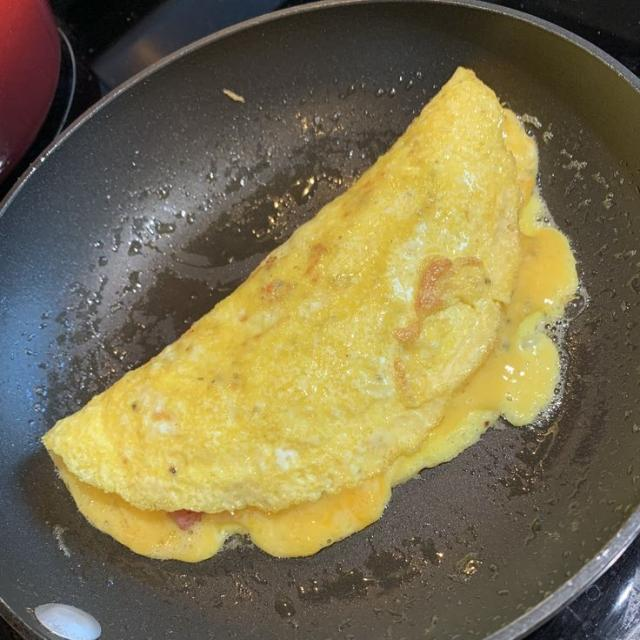omelette: (44, 69, 577, 560)
